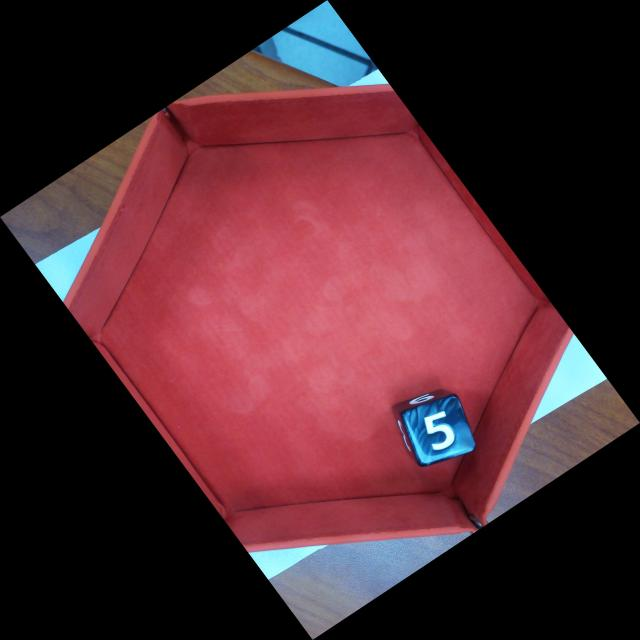dice: (397, 392, 479, 470)
